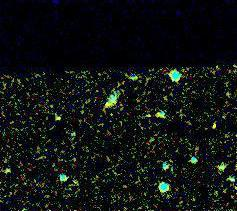star: (143, 99, 173, 129)
